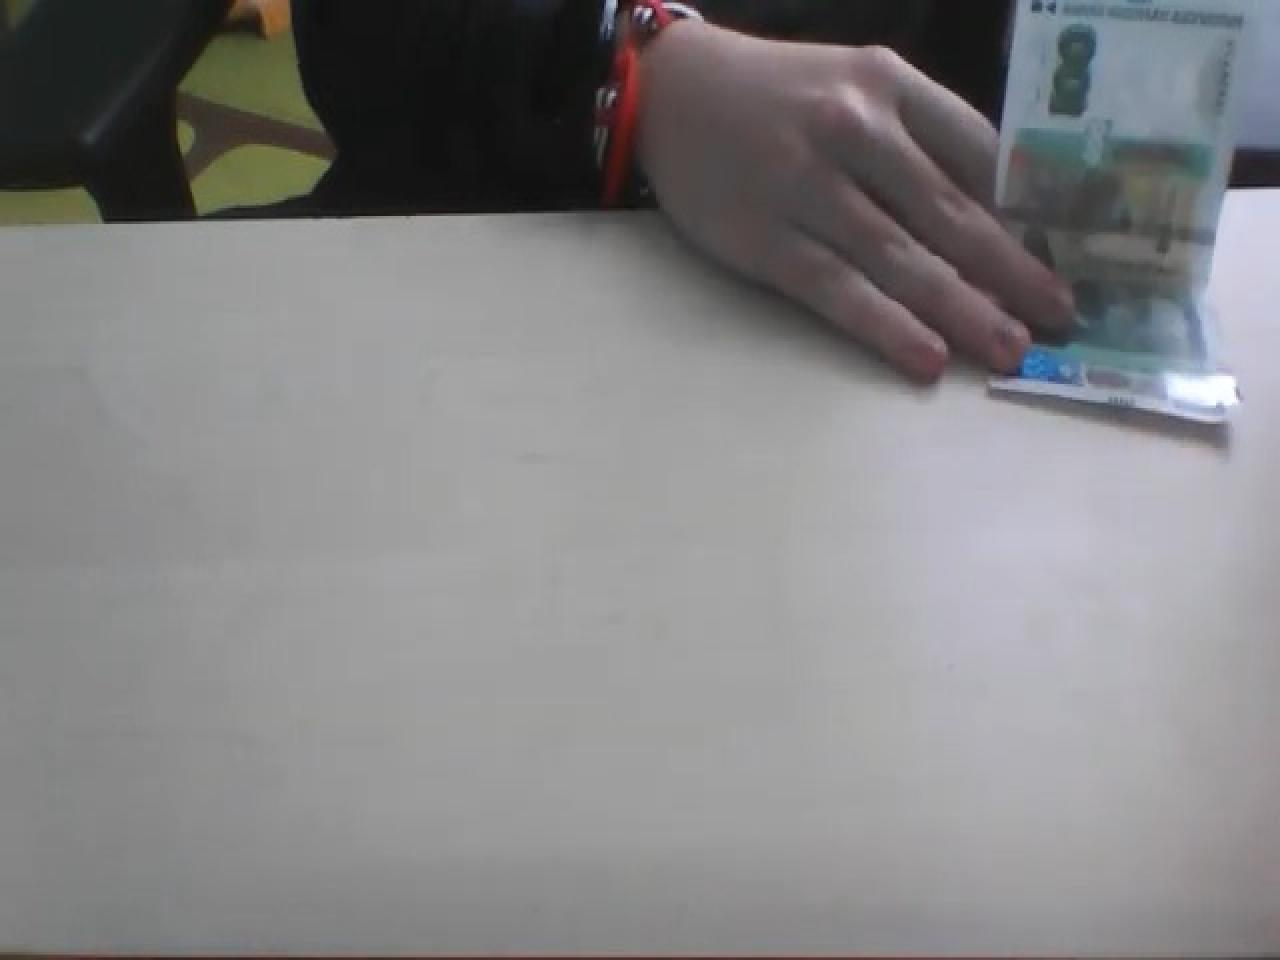100leva: (998, 0, 1244, 424)
